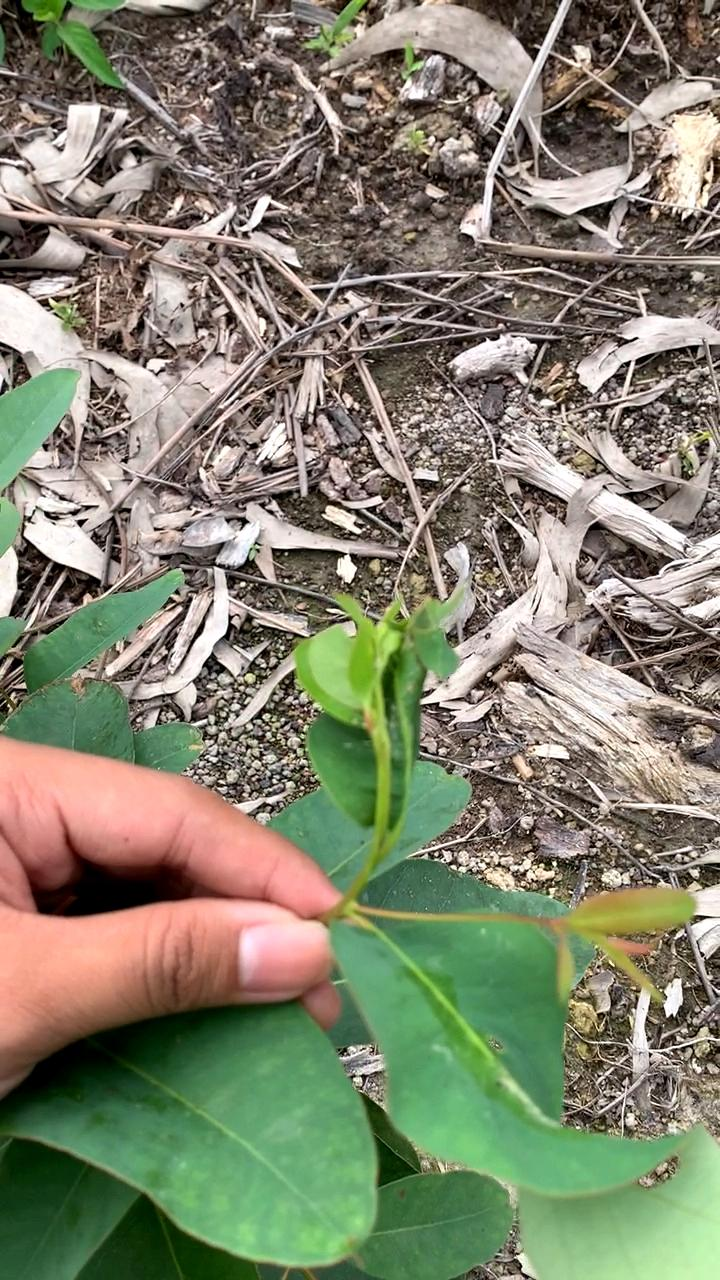Leaf Roller - Leaf: (301, 598, 461, 867)
